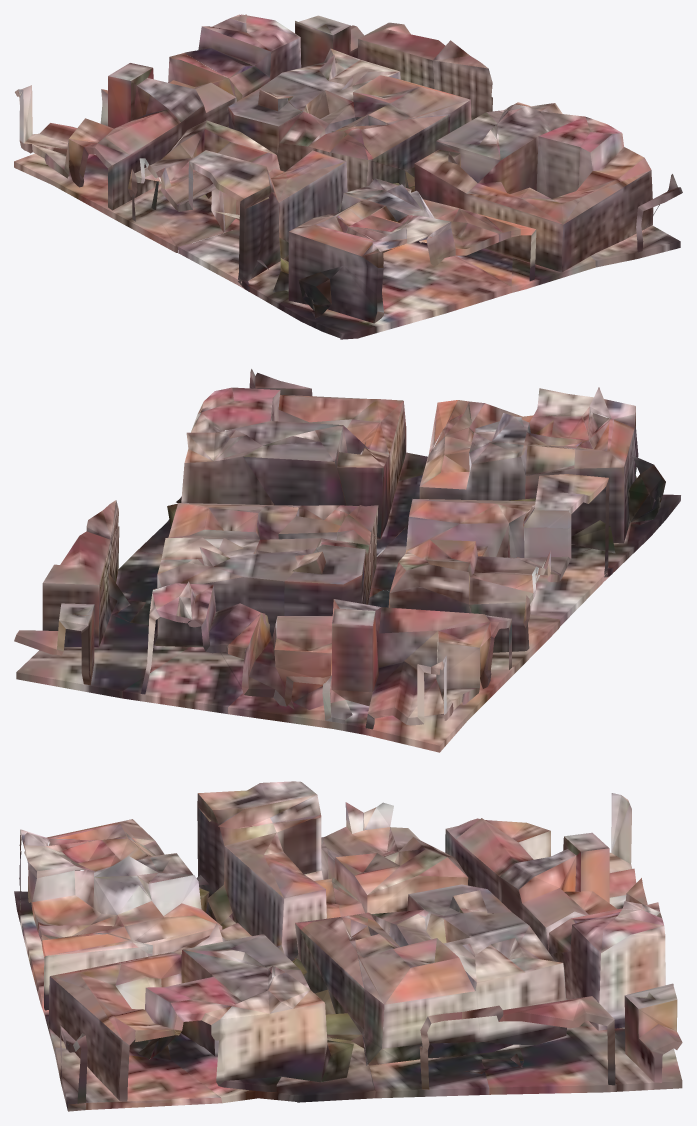
The picture shows the model from 3 angles, top to bottom: view 1: azimuth 30°, elevation 25°; view 2: azimuth 150°, elevation 25°; view 3: azimuth 270°, elevation 25°; orthographic projection. The views are drawn at different scales.
Visible parts, largest first — view 1: Mesh_0; view 2: Mesh_0; view 3: Mesh_0.
Boxes of the visible parts, x1=… form: Mesh_0: x1=14, y1=14, x2=682, y2=339; Mesh_0: x1=14, y1=369, x2=680, y2=752; Mesh_0: x1=14, y1=781, x2=682, y2=1111.
Bounding box in the file's own units: 134 × 34.13 × 165.
Materials: 1 (1 with a texture image).
